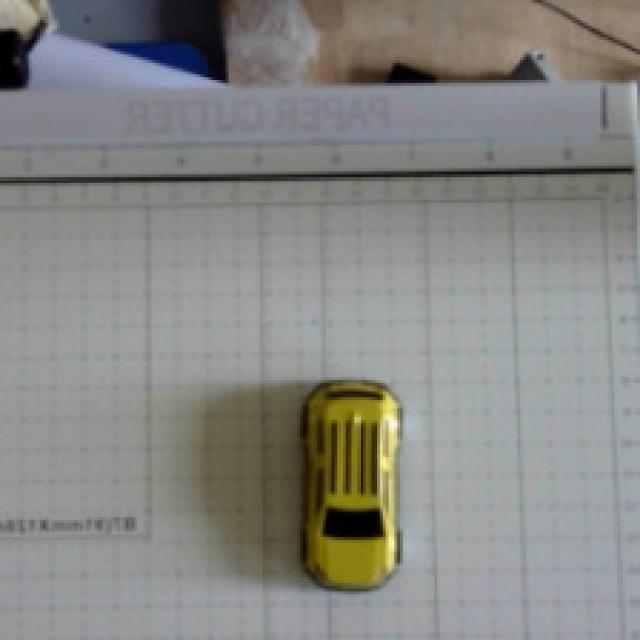Yellow Car: (240, 323, 462, 614)
